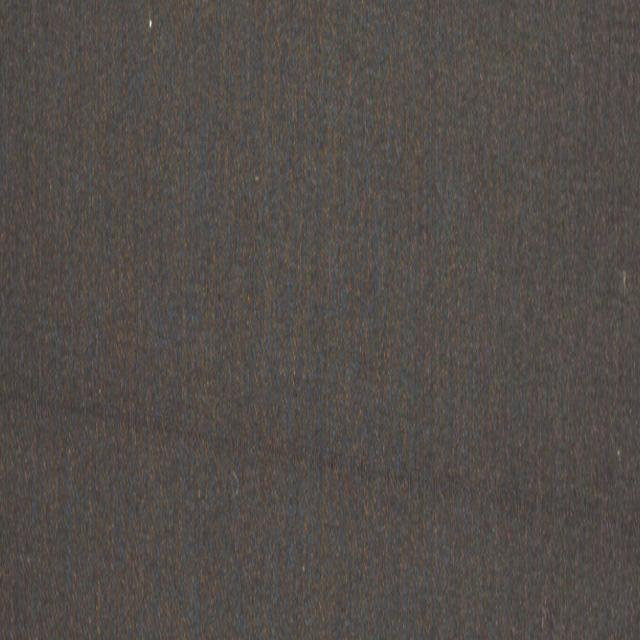Line: (0, 378, 640, 550)
